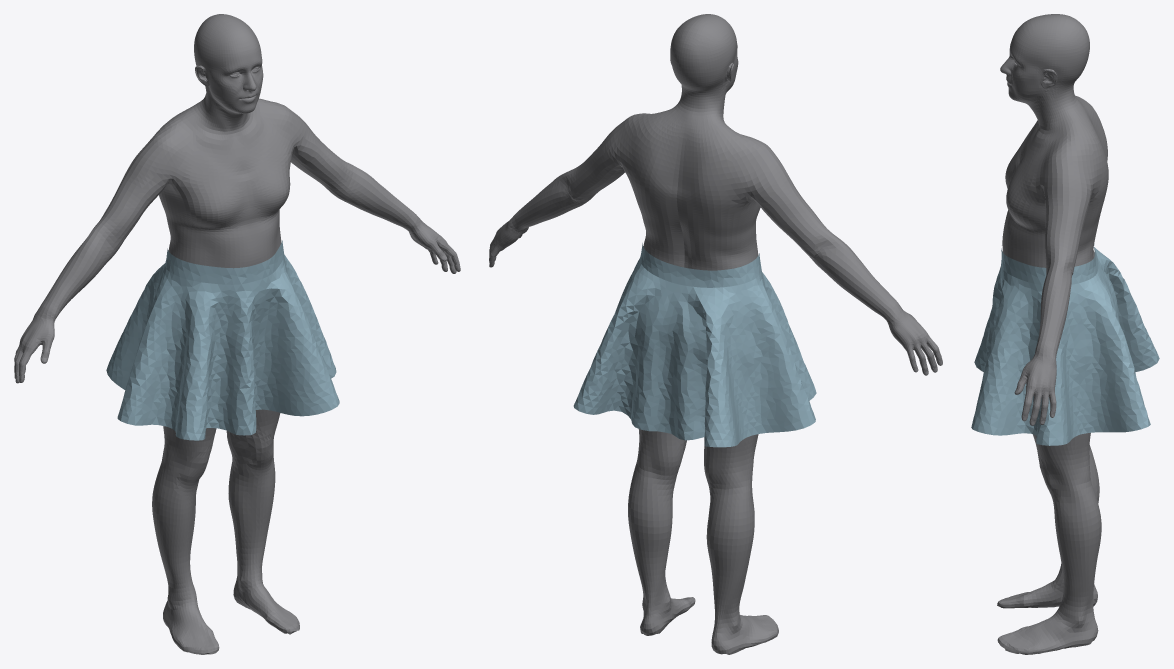
File: skirt.glb
The picture shows the model from 3 angles, left to right: view 1: azimuth 30°, elevation 25°; view 2: azimuth 150°, elevation 25°; view 3: azimuth 270°, elevation 25°; orthographic projection.
Parts seen in each view (by area): view 1: body, garment; view 2: body, garment; view 3: body, garment.
Boxes of the visible parts, x1,y1,x2,y2 form: body: [14, 14, 460, 654]; garment: [106, 240, 339, 440]; body: [489, 14, 942, 654]; garment: [573, 243, 816, 447]; body: [997, 14, 1108, 654]; garment: [971, 244, 1159, 445].
Bounding box in the file's own units: 1.31 × 1.72 × 0.4811.
